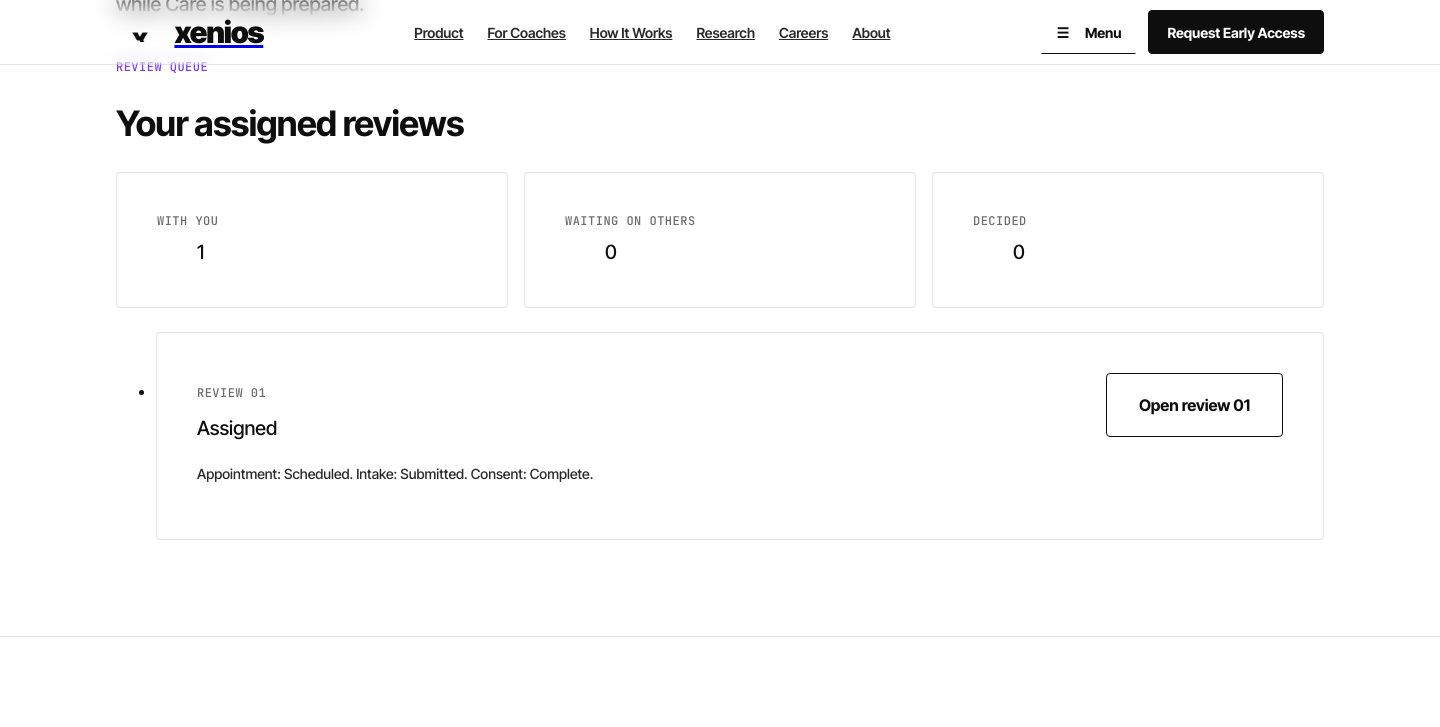
Test: Care clinician review, clinical action controls › renders every clinical action visibly disabled with an explanation
The width and height of the screenshot is (1440, 727).
(page scrolled)
What coordinates should you click on to do the following:
click the button "Open review 01"
I would click on:
 (1194, 405)
Its box is [1106,373,1283,437].
(page scrolled)
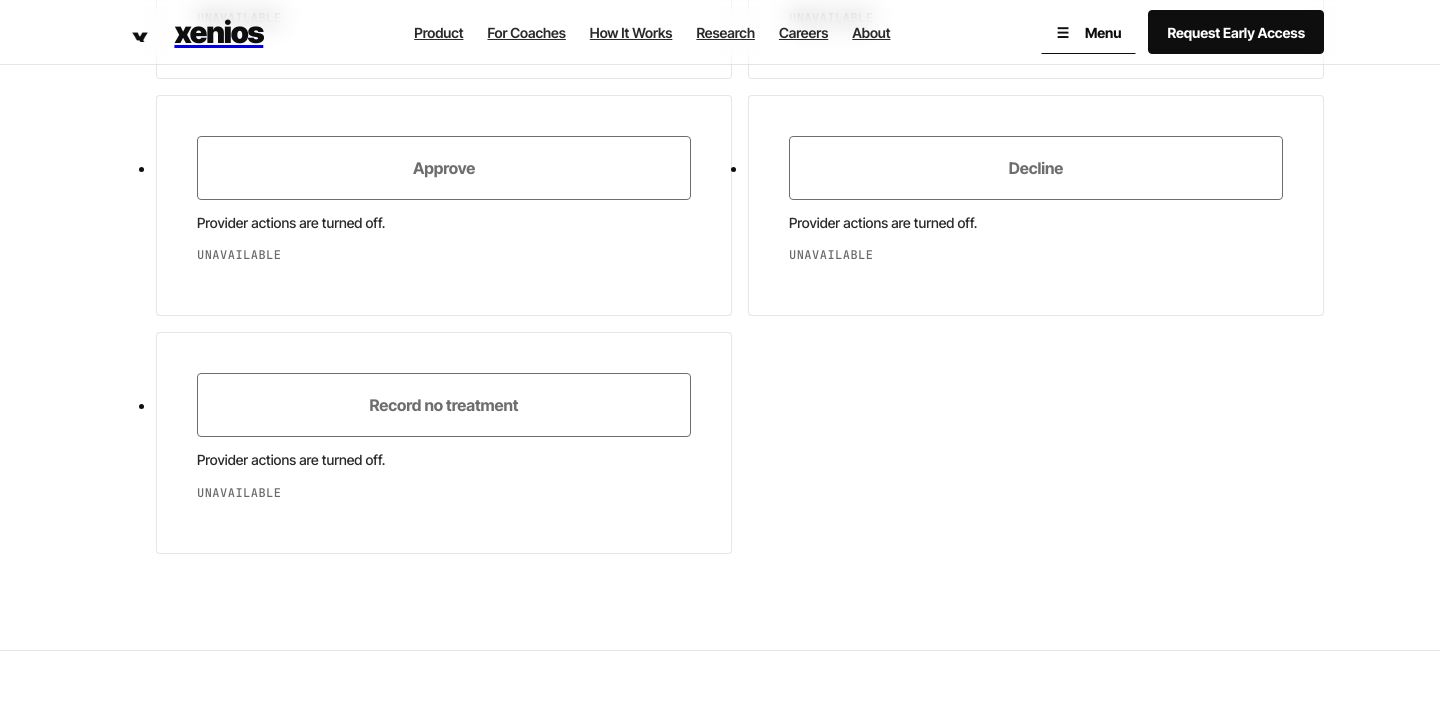
Now the button "Approve" is disabled, box [197,136,691,200]
Now the button "Decline" is disabled, box [789,136,1283,200]
Now the button "Record no treatment" is disabled, box [197,373,691,437]
